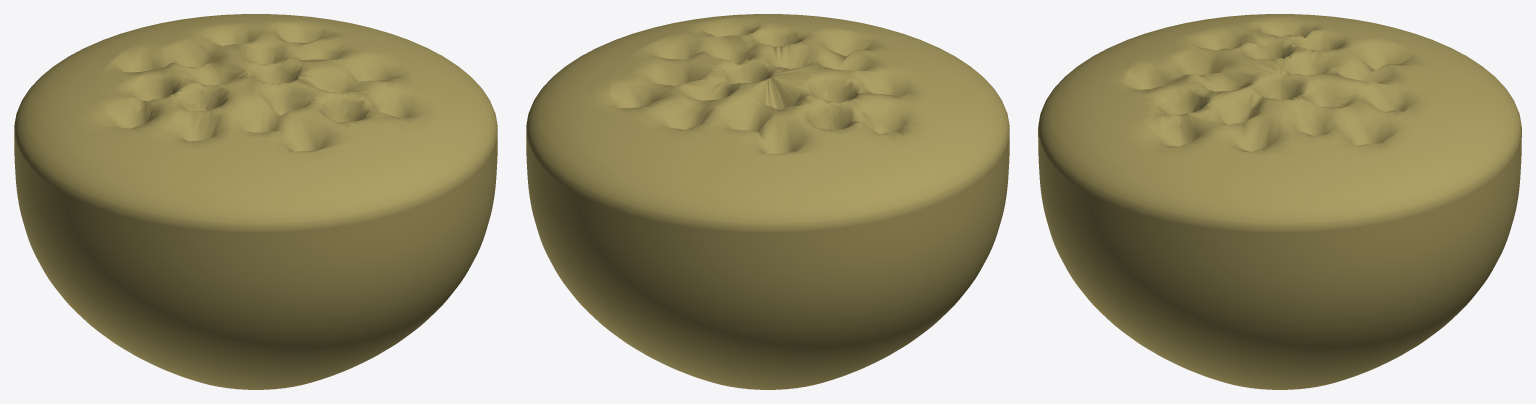
File: edits_dent.glb
3 views of the same model, side by side, from view 1: azimuth 30°, elevation 25°; view 2: azimuth 150°, elevation 25°; view 3: azimuth 270°, elevation 25° (orthographic).
Visible parts, largest first — view 1: pod; view 2: pod; view 3: pod.
Part boxes in pixels (<box>): pod: <box>14,14,497,389</box>; pod: <box>526,14,1009,389</box>; pod: <box>1038,14,1521,389</box>.
Bounding box in the file's own units: 0.08 × 0.05 × 0.08.
